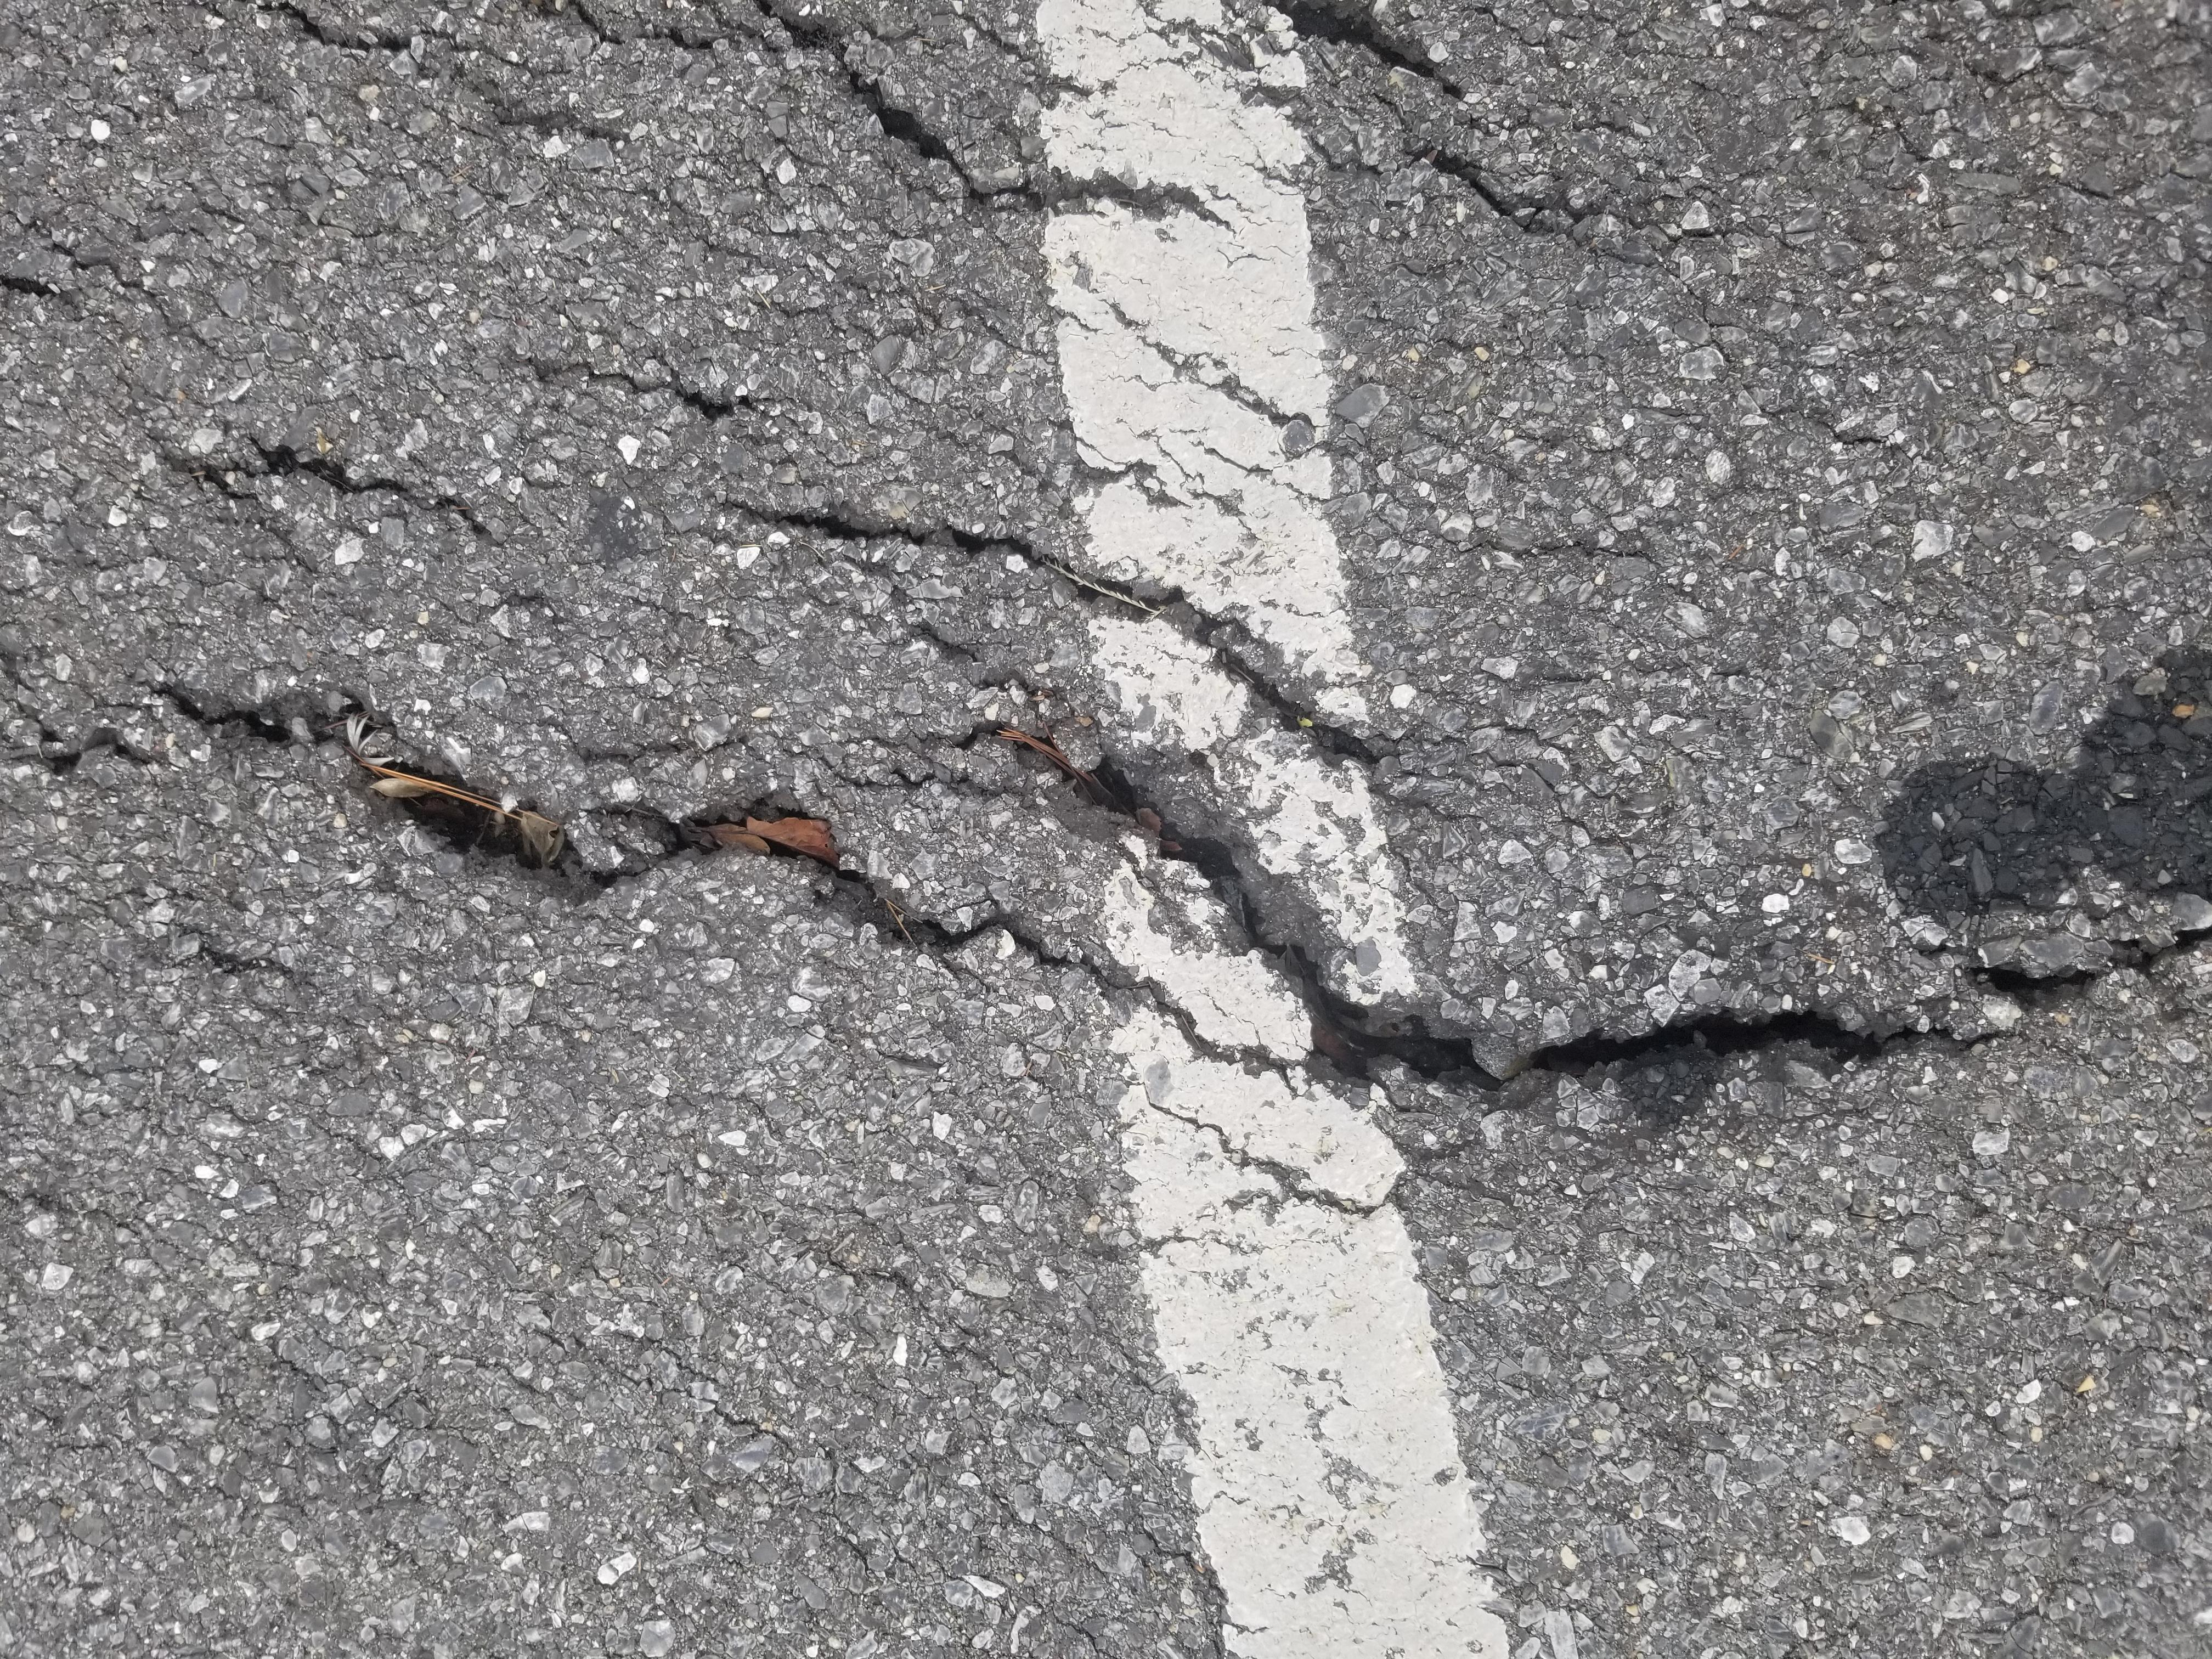crack: (688, 16, 1305, 1642), (1893, 396, 2209, 931), (1874, 946, 2200, 1251), (1346, 538, 1562, 988), (1456, 94, 1681, 376), (2107, 178, 2212, 340)
